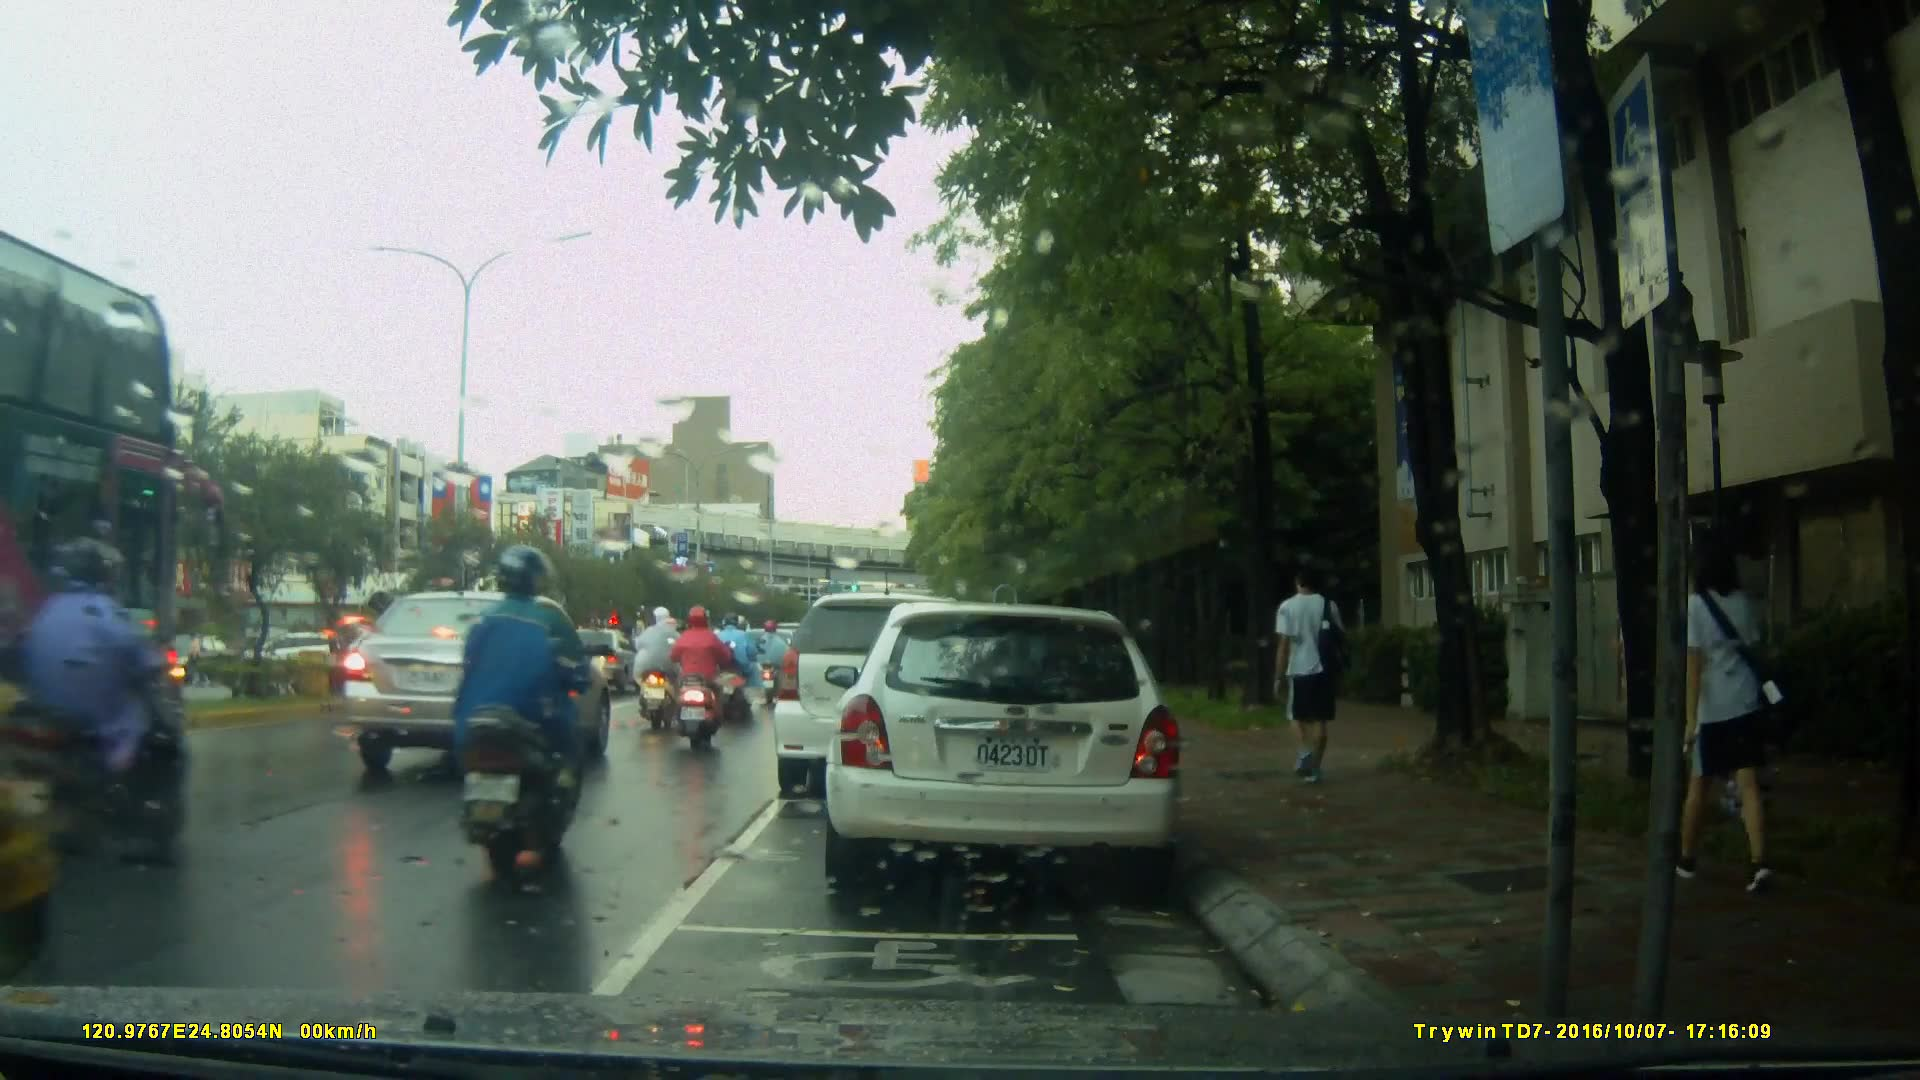pedestrian: (5, 527, 178, 868), (1651, 527, 1770, 900), (1270, 554, 1370, 806)
rider: (451, 545, 591, 883), (665, 605, 732, 756), (631, 603, 686, 736), (712, 611, 762, 715), (754, 617, 790, 711)
vehicle: (10, 215, 233, 901), (822, 604, 1188, 882), (341, 588, 619, 777), (774, 595, 995, 802)
